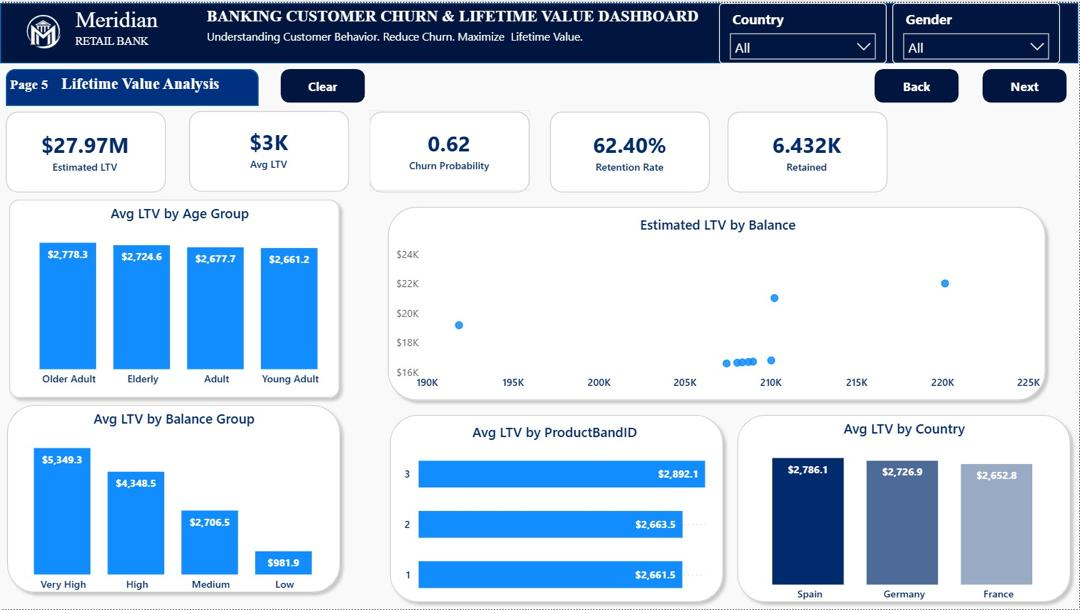

This screenshot's page, from the dashboard's own definition file:
{"tool":"powerbi","page":{"name":"Lifetime Value Analysis","canvas":[1280,720],"ordinal":4},"visuals":[{"type":"shape","box":[0,0,1279.7,720],"z":0},{"type":"shape","box":[2.7,224.8,408.4,251.6],"z":0,"group":"g3"},{"type":"shape","box":[452.2,233.7,797,246.3],"z":0,"group":"g4"},{"type":"shape","box":[0,468.4,411.9,239.1],"z":0,"group":"g7"},{"type":"shape","box":[454,480.9,411.9,239.1],"z":0,"group":"g6"},{"type":"shape","box":[866.9,480.9,411.9,239.1],"z":0,"group":"g5"},{"type":"shape","box":[0,0,1279.7,71.6],"z":1000},{"type":"columnChart","fields":{"Category":["FactCustomer.Balance Group"],"Y":["All Dax.Avg LTV"]},"box":[0,476.5,412.8,231],"z":1000,"group":"g7"},{"type":"columnChart","fields":{"Category":["DimGeography.Country"],"Y":["All Dax.Avg LTV"]},"box":[866.9,489,412.8,231],"z":1000,"group":"g5"},{"type":"clusteredBarChart","fields":{"Category":["DimProductBand.ProductBandID"],"Y":["All Dax.Avg LTV"]},"box":[474.6,493.5,367.2,214],"z":1000,"group":"g6"},{"type":"shape","box":[223.9,128.9,189.9,95.8],"z":2001,"group":"g2"},{"type":"shape","box":[7.2,129,189.9,95.8],"z":2001,"group":"g1"},{"type":"cardVisual","fields":{"Data":["All Dax.Estimated LTV"]},"box":[7.9,125,186.3,103],"z":2012,"group":"g1"},{"type":"cardVisual","fields":{"Data":["All Dax.Avg LTV"]},"box":[226.7,126,184.5,95.8],"z":2012,"group":"g2"},{"type":"shape","box":[7.2,78.8,300,43.9],"z":3000},{"type":"cardVisual","fields":{"Data":["All Dax.Churned"]},"box":[482.7,129,170.1,95.8],"z":4000},{"type":"cardVisual","fields":{"Data":["All Dax.Churned"]},"box":[482.7,129,170.1,95.8],"z":5000},{"type":"shape","box":[438.8,129,189.9,95.8],"z":6000},{"type":"shape","box":[652.8,129,189.9,95.8],"z":7000},{"type":"shape","box":[863.3,129,189.9,95.8],"z":8000},{"type":"group","id":"g1","title":"Group 1","box":[7.2,125,189.9,103],"z":9000},{"type":"group","id":"g2","title":"Group 1","box":[223.9,126,189.9,98.8],"z":10000},{"type":"cardVisual","fields":{"Data":["All Dax.Churn Probability"]},"box":[438.8,127.2,189.9,95.8],"z":11000},{"type":"cardVisual","fields":{"Data":["All Dax.Retention Rate"]},"box":[652.8,129,189.9,95.8],"z":12000},{"type":"cardVisual","fields":{"Data":["All Dax.Retained"]},"box":[863.3,129,189,95.8],"z":13000},{"type":"textbox","box":[7.2,78.8,300,43.9],"z":14000},{"type":"slicer","fields":{"Values":["DimGender.Gender"]},"box":[1058.9,0,199,71.7],"z":15000},{"type":"slicer","fields":{"Values":["DimGeography.Country"]},"box":[853.4,0,198.8,71.6],"z":16000},{"type":"textbox","box":[240,0,613.4,35.8],"z":17000},{"type":"textbox","box":[240,25.1,615.2,35.8],"z":18000},{"type":"image","box":[0,0,102.1,71.6],"z":19000},{"type":"textbox","box":[84.2,0,130.7,71.6],"z":20000},{"type":"actionButton","box":[1166,78.8,100,40],"z":21000},{"type":"actionButton","box":[333.1,78.8,100,40],"z":22000},{"type":"group","id":"g3","title":"Group 2","box":[2.7,224.8,408.4,251.6],"z":23000},{"type":"group","id":"g4","title":"Group 2","box":[452.2,233.7,797,246.3],"z":24000},{"type":"actionButton","box":[1037.9,78.8,100,40],"z":25000},{"type":"group","id":"g5","title":"Group 2","box":[866.9,480.9,412.8,239.1],"z":26000},{"type":"group","id":"g6","title":"Group 2","box":[454,480.9,411.9,239.1],"z":27000},{"type":"scatterChart","fields":{"X":["FactCustomer.Balance"],"Y":["All Dax.Estimated LTV"]},"box":[464.8,247.2,774.6,221.2],"z":28000},{"type":"group","id":"g7","title":"Group 2","box":[0,468.4,412.8,239.1],"z":29000},{"type":"columnChart","fields":{"Category":["FactCustomer.Age Group"],"Y":["All Dax.Avg LTV"]},"box":[7.2,233.7,412.8,231],"z":29500}]}

Visuals, with their boxes in screenshot pixels (x1, y1, x2, y2), scaled from the page's 1280x720 canvas onto the 1080x610 screenshot:
shape: Rect(0, 0, 1079, 609)
shape: Rect(2, 190, 347, 404)
shape: Rect(382, 198, 1054, 407)
shape: Rect(0, 397, 348, 599)
shape: Rect(383, 407, 731, 609)
shape: Rect(731, 407, 1079, 609)
shape: Rect(0, 0, 1079, 61)
columnChart - FactCustomer.Balance Group x All Dax.Avg LTV: Rect(0, 404, 348, 599)
columnChart - DimGeography.Country x All Dax.Avg LTV: Rect(731, 414, 1079, 609)
clusteredBarChart - DimProductBand.ProductBandID x All Dax.Avg LTV: Rect(400, 418, 710, 599)
shape: Rect(189, 109, 349, 190)
shape: Rect(6, 109, 166, 190)
cardVisual - All Dax.Estimated LTV: Rect(7, 106, 164, 193)
cardVisual - All Dax.Avg LTV: Rect(191, 107, 347, 188)
shape: Rect(6, 67, 259, 104)
cardVisual - All Dax.Churned: Rect(407, 109, 551, 190)
cardVisual - All Dax.Churned: Rect(407, 109, 551, 190)
shape: Rect(370, 109, 530, 190)
shape: Rect(551, 109, 711, 190)
shape: Rect(728, 109, 889, 190)
"Group 1" group: Rect(6, 106, 166, 193)
"Group 1" group: Rect(189, 107, 349, 190)
cardVisual - All Dax.Churn Probability: Rect(370, 108, 530, 189)
cardVisual - All Dax.Retention Rate: Rect(551, 109, 711, 190)
cardVisual - All Dax.Retained: Rect(728, 109, 888, 190)
textbox: Rect(6, 67, 259, 104)
slicer - DimGender.Gender: Rect(893, 0, 1061, 61)
slicer - DimGeography.Country: Rect(720, 0, 888, 61)
textbox: Rect(202, 0, 720, 30)
textbox: Rect(202, 21, 722, 52)
image: Rect(0, 0, 86, 61)
textbox: Rect(71, 0, 181, 61)
actionButton: Rect(984, 67, 1068, 101)
actionButton: Rect(281, 67, 365, 101)
"Group 2" group: Rect(2, 190, 347, 404)
"Group 2" group: Rect(382, 198, 1054, 407)
actionButton: Rect(876, 67, 960, 101)
"Group 2" group: Rect(731, 407, 1079, 609)
"Group 2" group: Rect(383, 407, 731, 609)
scatterChart - FactCustomer.Balance x All Dax.Estimated LTV: Rect(392, 209, 1046, 397)
"Group 2" group: Rect(0, 397, 348, 599)
columnChart - FactCustomer.Age Group x All Dax.Avg LTV: Rect(6, 198, 354, 394)
